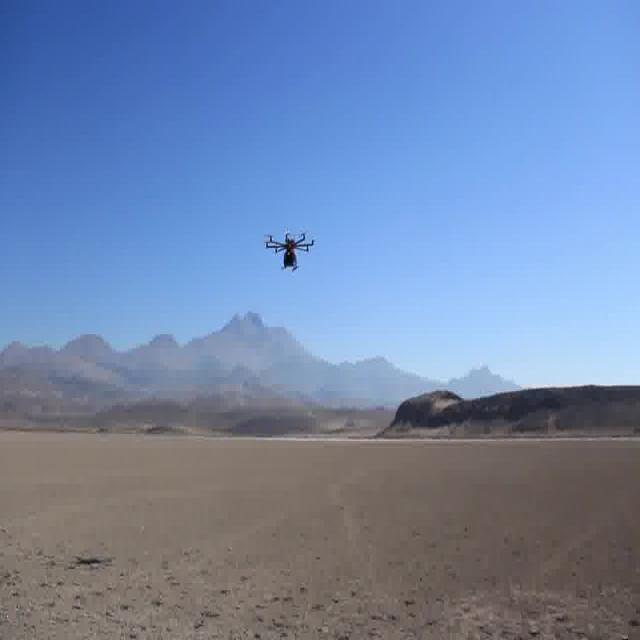drone: (261, 212, 322, 278)
